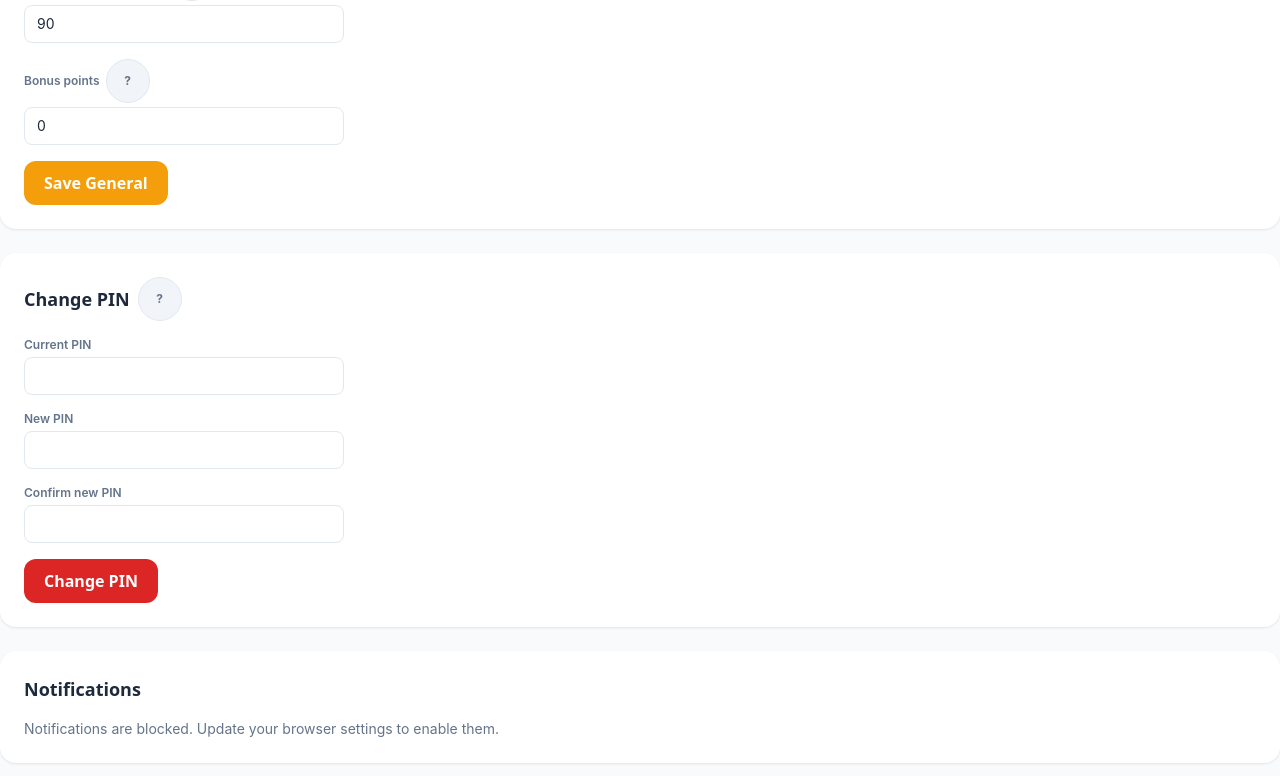
Test: SettingsScreen › shows error if PINs do not match
(page scrolled)
In the password field labelled "Current PIN": (184, 376) [24, 357, 344, 395], type "123456"
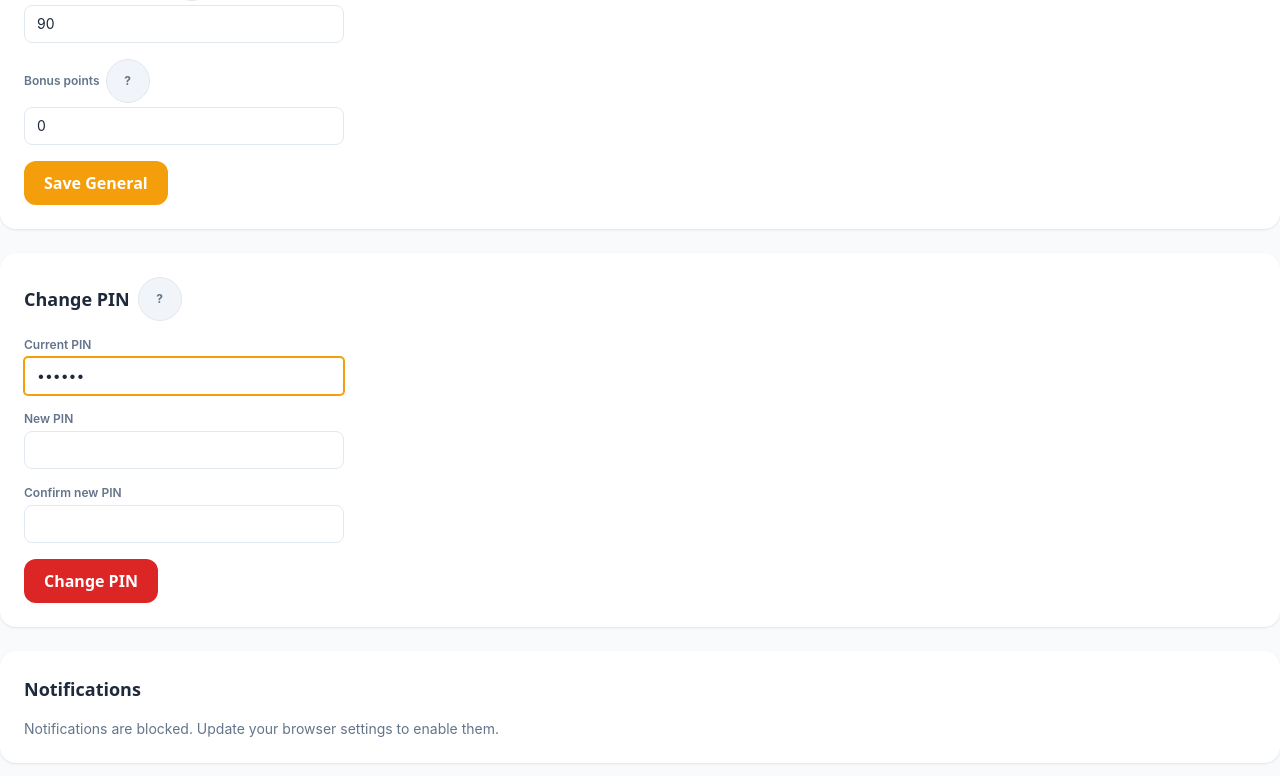
In the password field labelled "New PIN": (184, 450) [24, 431, 344, 469], type "654321"
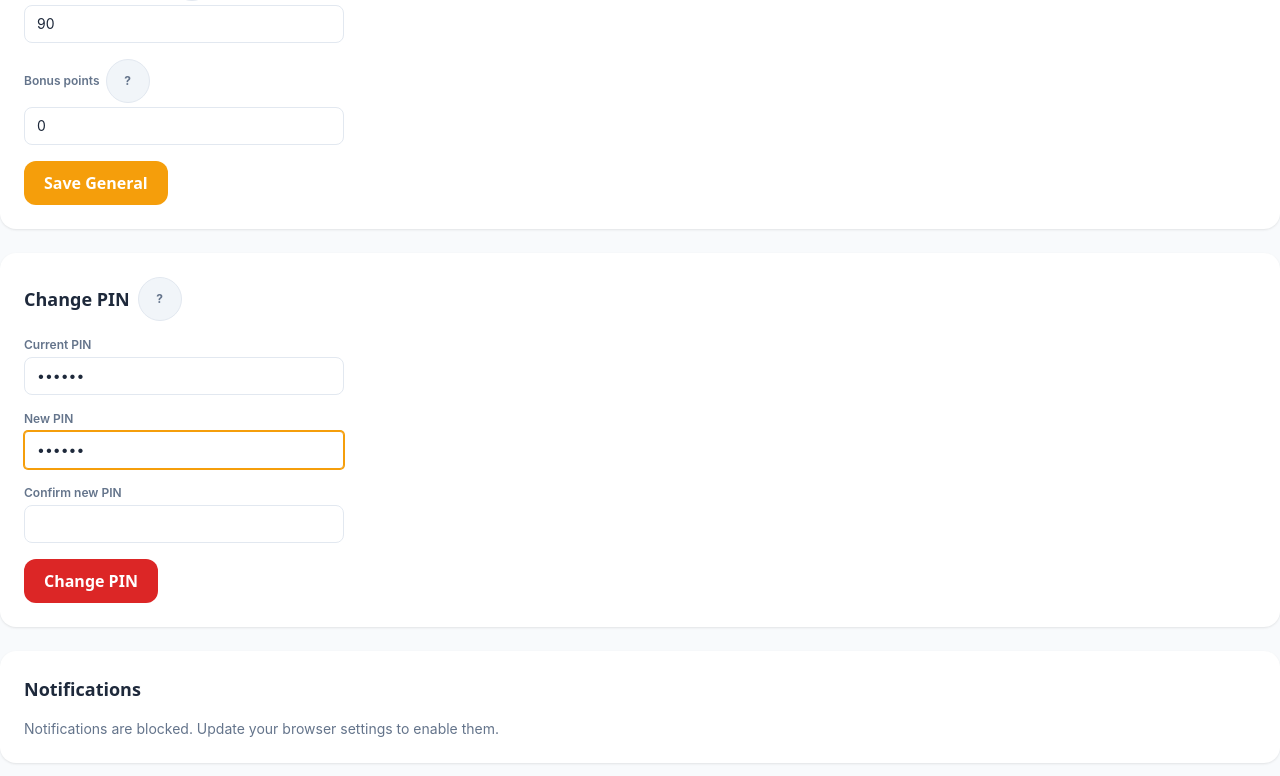
In the password field labelled "Confirm new PIN": (184, 524) [24, 505, 344, 543], type "999999"
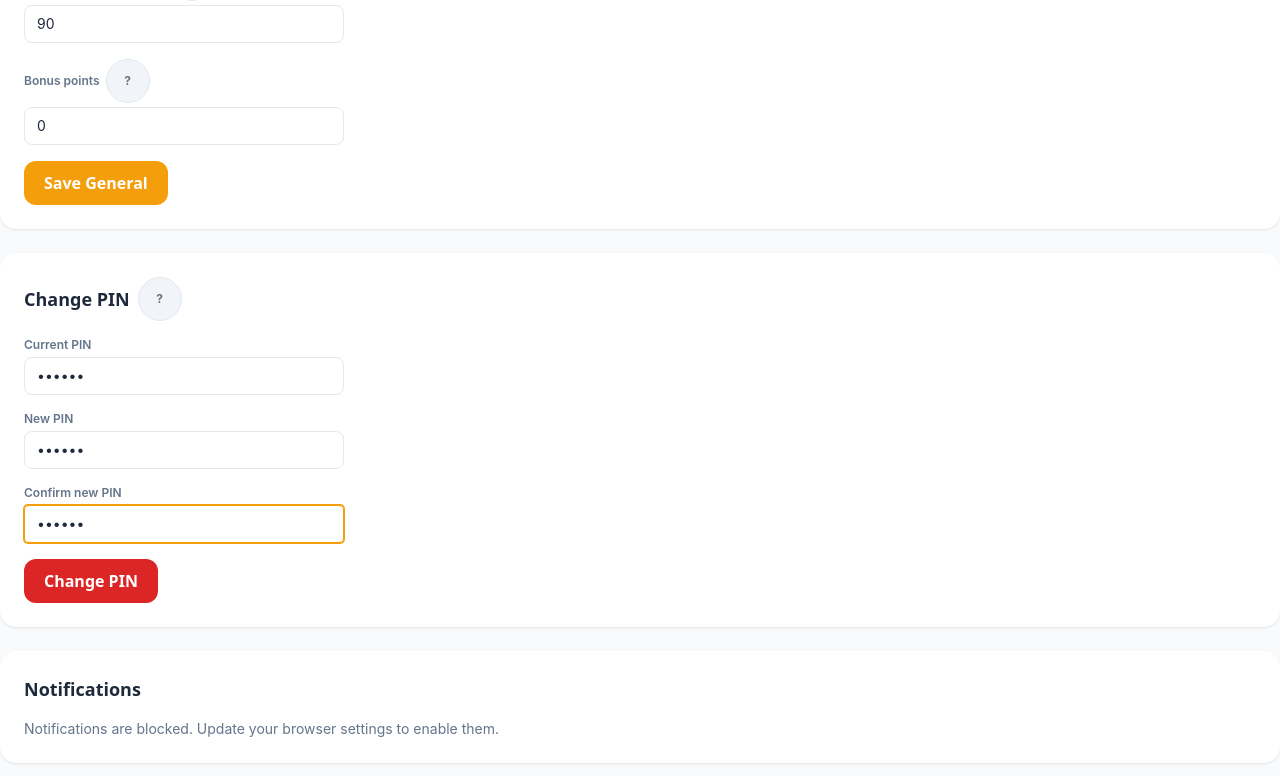
Click the button "Change PIN": (91, 581) [24, 559, 158, 603]
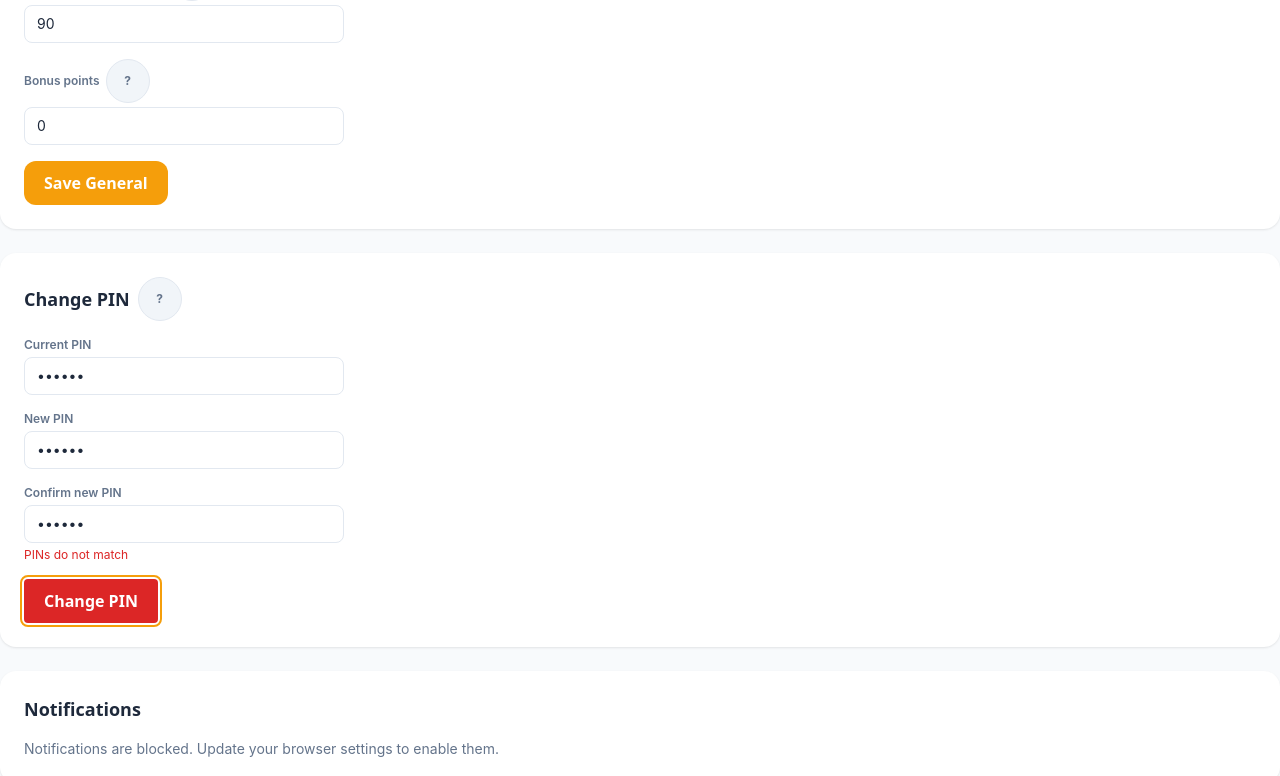
Expected: the text "PINs do not match" is shown, [24, 547, 128, 562]
